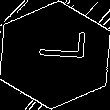L_W: (26, 38, 84, 72)
